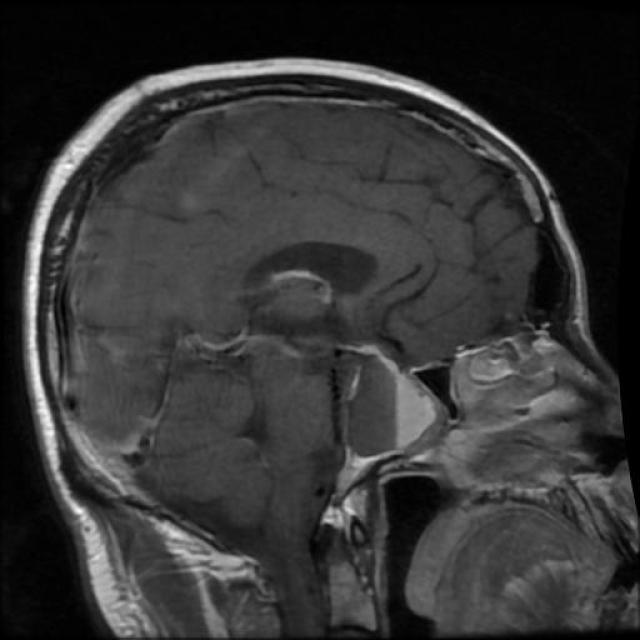pituitary: (331, 332, 445, 473)
